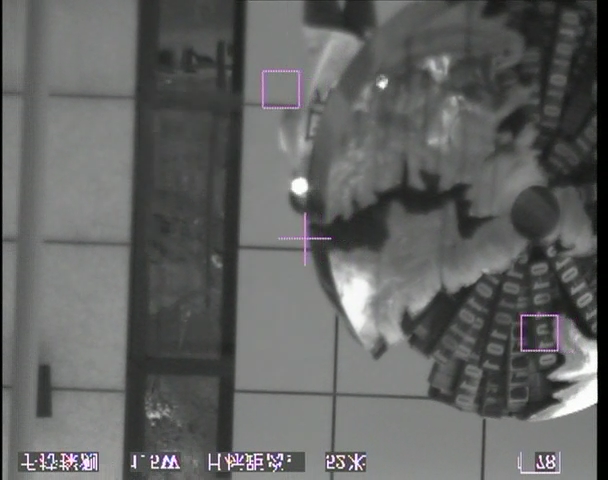my: (289, 175, 309, 197)
